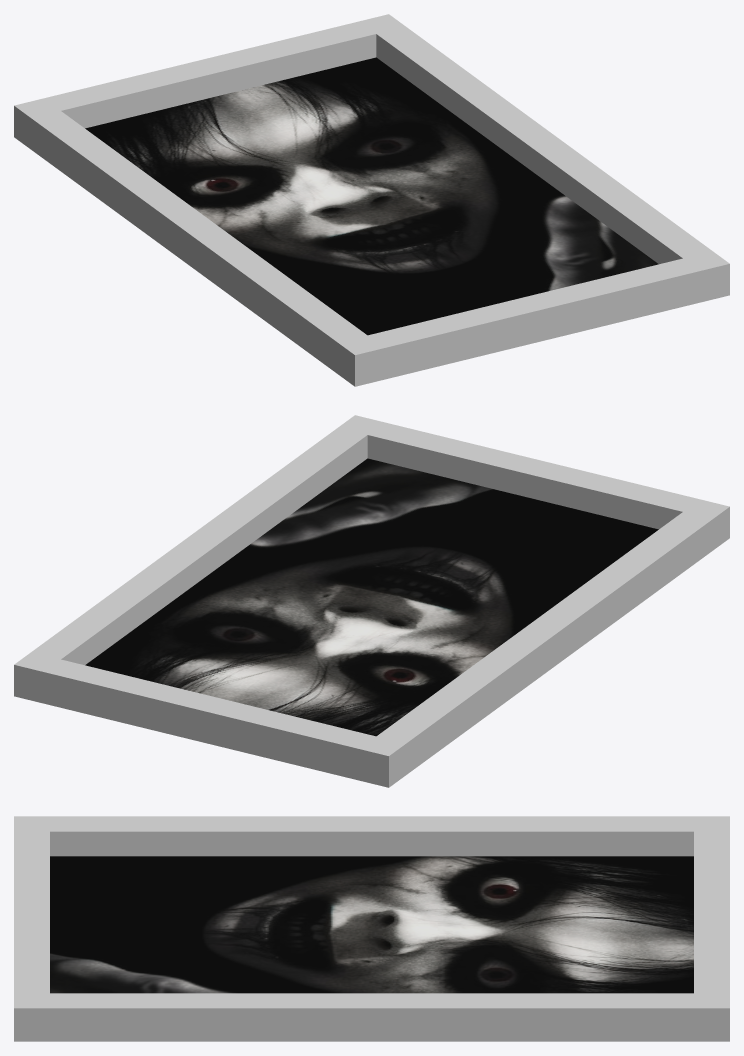
The model's file is cadres6.fbx.
3 views of the same model, one above another, from view 1: azimuth 30°, elevation 25°; view 2: azimuth 150°, elevation 25°; view 3: azimuth 270°, elevation 25° (orthographic). The views are drawn at different scales.
Parts seen in each view (by area): view 1: cadre_6; view 2: cadre_6; view 3: cadre_6.
Boxes of the visible parts, bbox=[...] form: cadre_6: bbox=[14, 14, 729, 386]; cadre_6: bbox=[14, 415, 729, 787]; cadre_6: bbox=[14, 816, 729, 1041].
Size of the model in its own units: 1538 by 124 by 2423.
2 materials, 1 textured.
